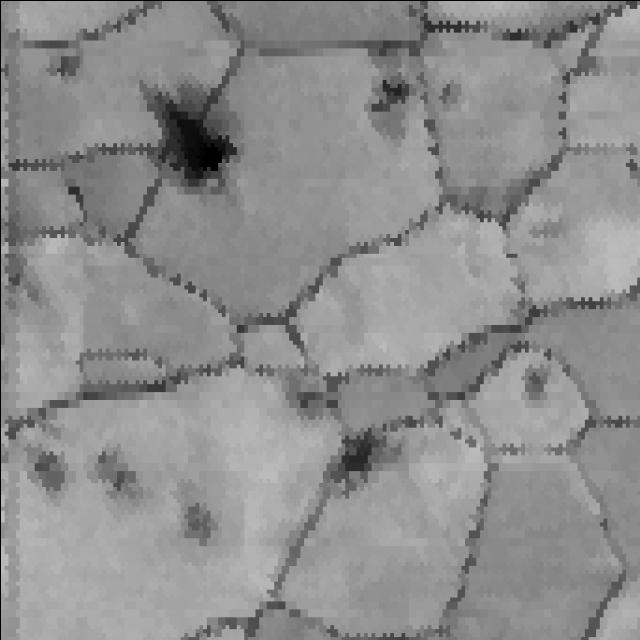good_void: (132, 84, 246, 202), (317, 420, 389, 499), (275, 358, 344, 422), (172, 500, 228, 553), (364, 67, 422, 118), (26, 441, 70, 506), (40, 45, 93, 90), (90, 446, 137, 494), (0, 254, 33, 299), (60, 177, 90, 225), (516, 371, 552, 408), (398, 0, 422, 27), (436, 81, 457, 109), (622, 155, 640, 187)
